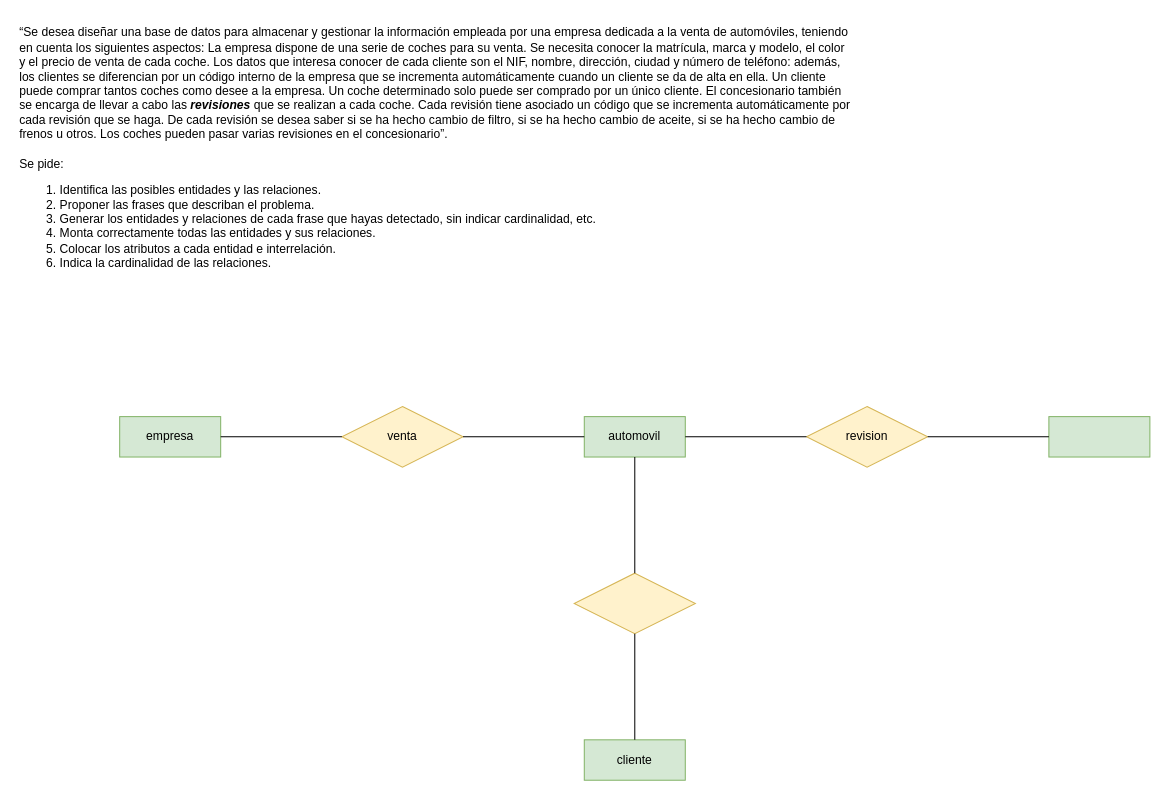
This 1168x798 diagram has some shape labels left out. Each missing label, with the box of its shape:
comprar: (573, 572, 695, 634)
concesionario: (1048, 416, 1150, 457)
